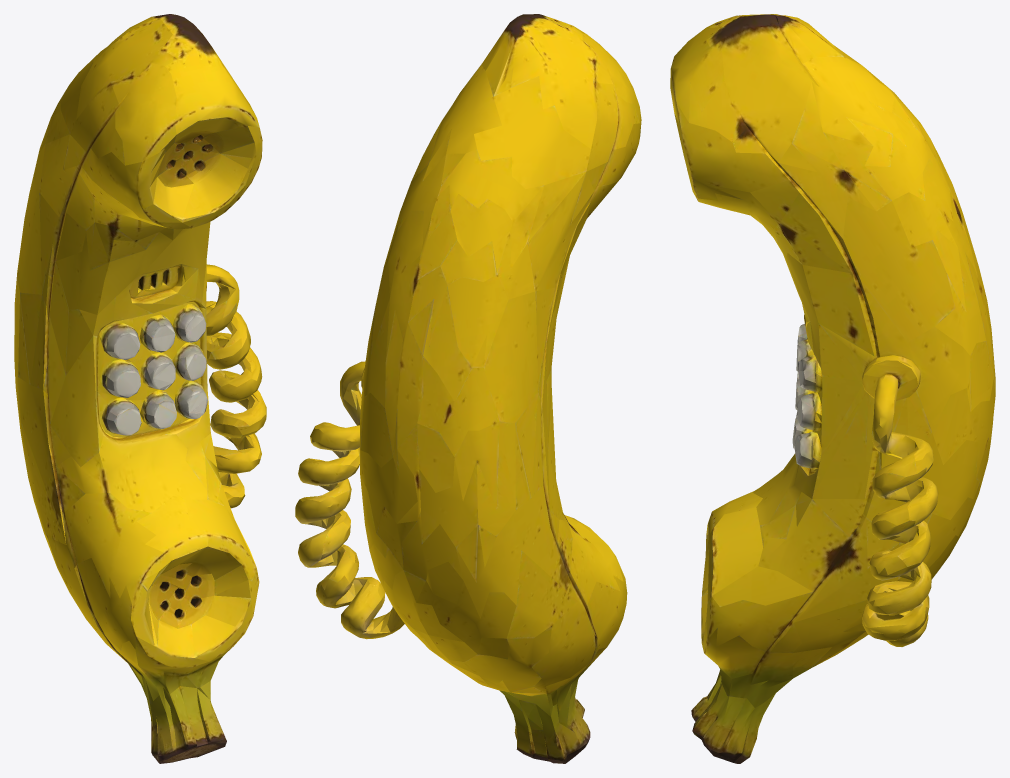
Rendered from banana_phone.glb.
3 views of the same model, side by side, from view 1: azimuth 30°, elevation 25°; view 2: azimuth 150°, elevation 25°; view 3: azimuth 270°, elevation 25° (orthographic). The views are drawn at different scales.
Parts seen in each view (by area): view 1: Mesh_0; view 2: Mesh_0; view 3: Mesh_0.
Boxes of the visible parts, x1,y1,x2,y2 form: Mesh_0: [14, 14, 266, 763]; Mesh_0: [295, 14, 641, 763]; Mesh_0: [670, 14, 995, 763].
Size of the model in its own units: 0.3434 by 1 by 0.3964.
1 material, 1 textured.
